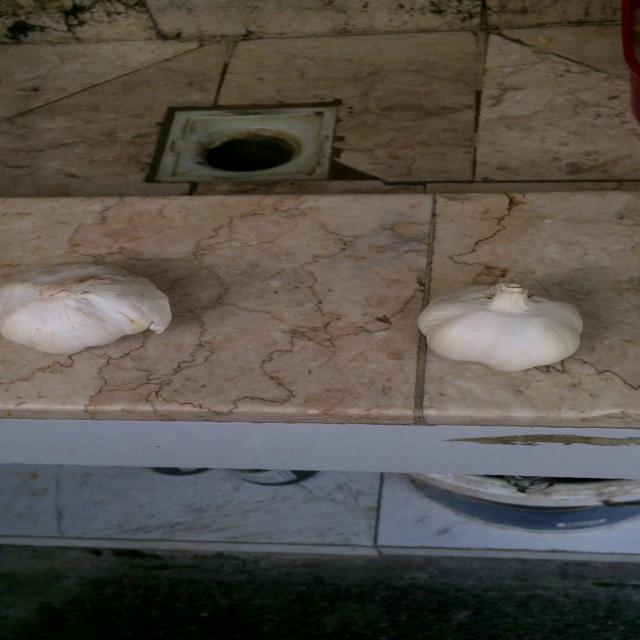garlic: (0, 256, 182, 358), (424, 270, 592, 374)
